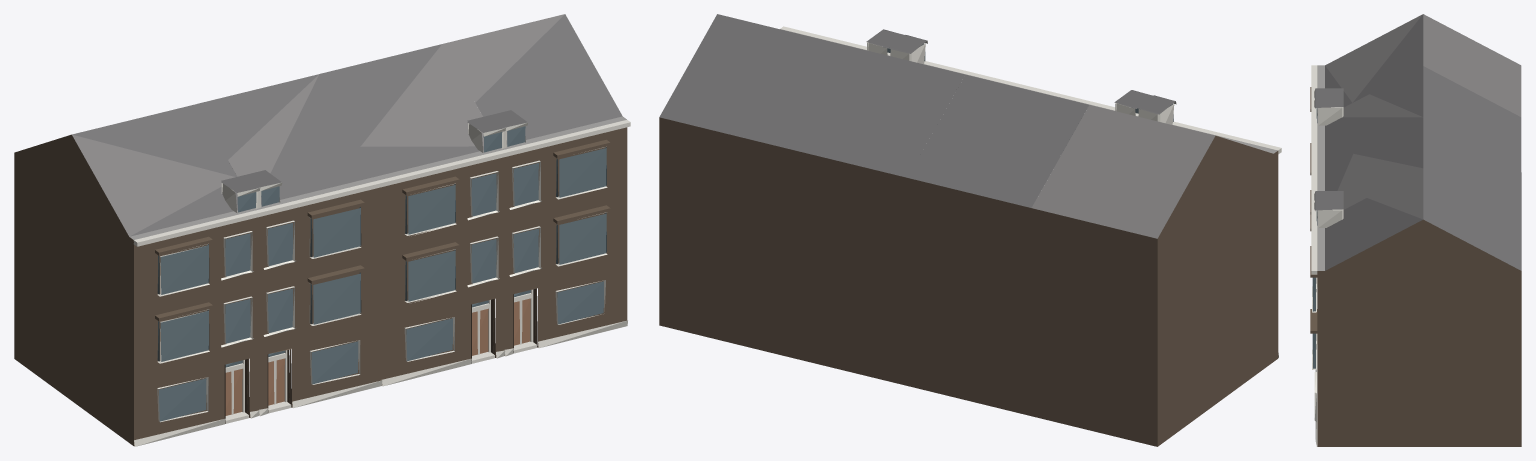
Rendered from chunk-face-treslong-21-35-a.lod2.glb.
3 renders of one model, left to right at view 1: azimuth 30°, elevation 25°; view 2: azimuth 150°, elevation 25°; view 3: azimuth 270°, elevation 25°, orthographic. The views are drawn at different scales.
Parts seen in each view (by area): view 1: lod2; view 2: lod2; view 3: lod2.
Part boxes in pixels (x1,y1,x2,y2): lod2: (14,14,630,446); lod2: (659,14,1281,446); lod2: (1310,14,1521,446).
Size of the model in its own units: 24.9 by 12.84 by 10.81.
